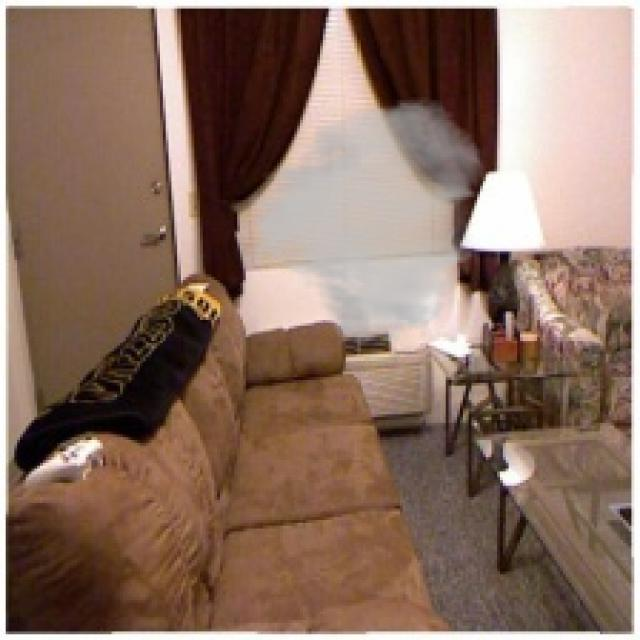Smoke: (241, 97, 488, 346)
